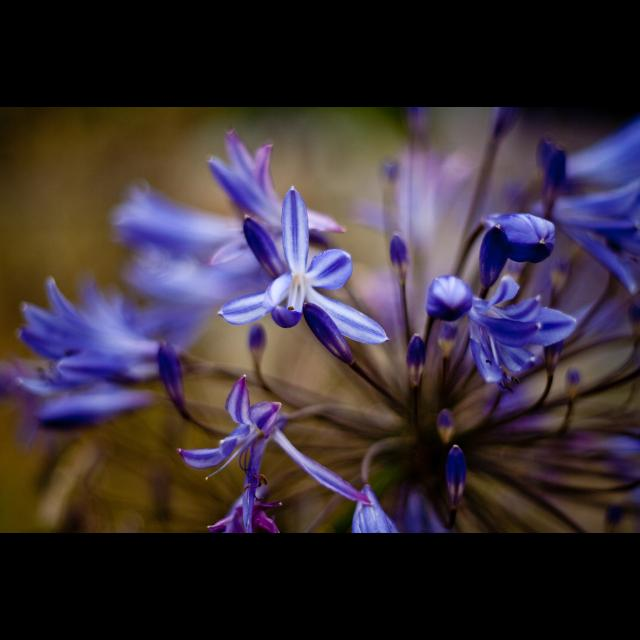Flower: (4, 125, 392, 432), (170, 376, 372, 502), (468, 278, 576, 382), (548, 180, 640, 290), (548, 120, 640, 188), (208, 485, 280, 533), (353, 492, 395, 534)
